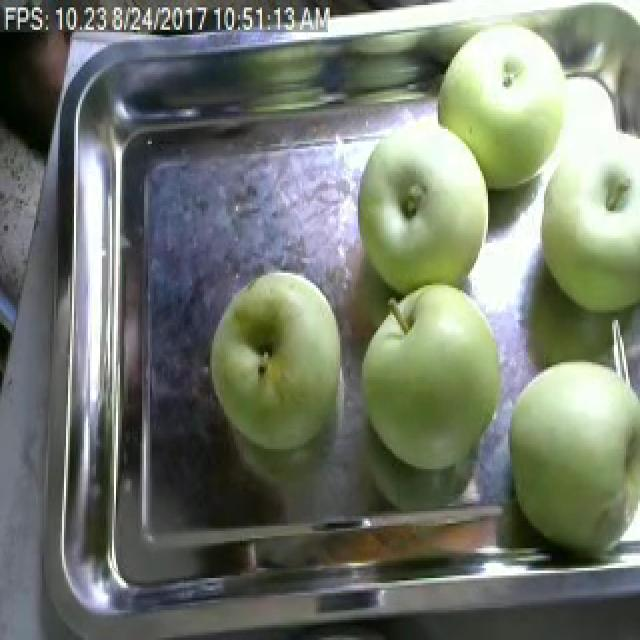50-_ripeness: (357, 287, 504, 478), (508, 357, 640, 558), (207, 272, 341, 460), (356, 122, 483, 278), (440, 15, 568, 160), (540, 129, 640, 310)
